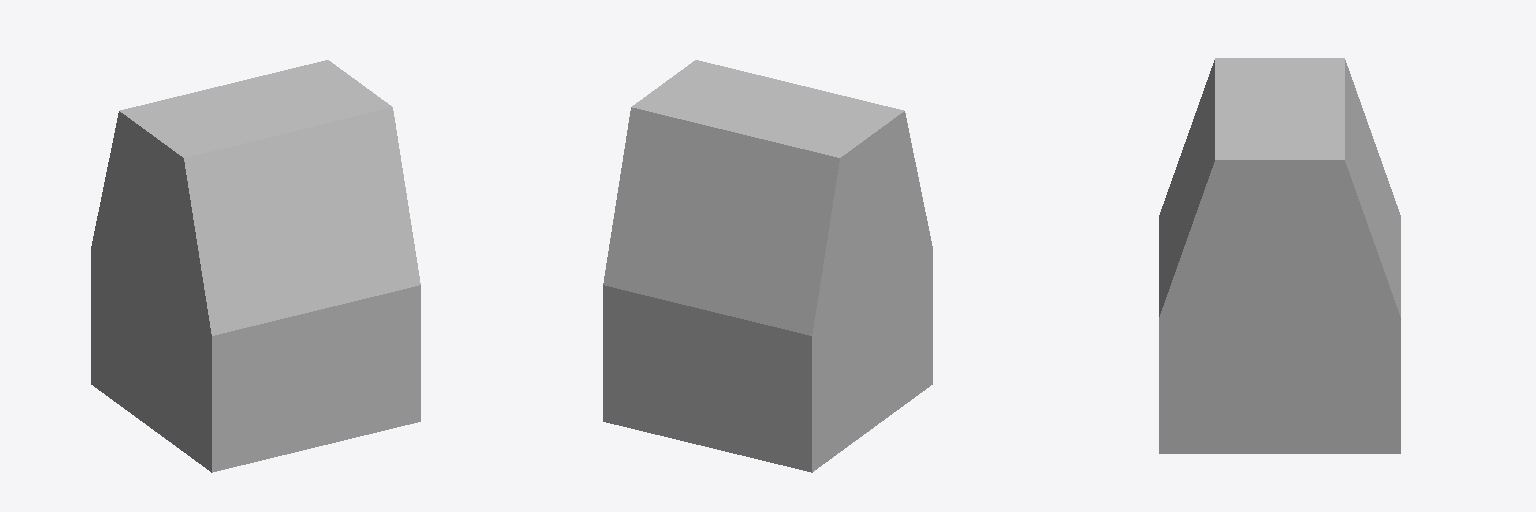
Rendered from radio.obj.
3 renders of one model, left to right at view 1: azimuth 30°, elevation 25°; view 2: azimuth 150°, elevation 25°; view 3: azimuth 270°, elevation 25°, orthographic.
Parts seen in each view (by area): view 1: Cube_Cube.001; view 2: Cube_Cube.001; view 3: Cube_Cube.001.
Boxes of the visible parts, x1,y1,x2,y2 form: Cube_Cube.001: [91, 60, 420, 472]; Cube_Cube.001: [603, 60, 932, 472]; Cube_Cube.001: [1159, 58, 1400, 453].
Bounding box in the file's own units: 2 × 2.69 × 2.